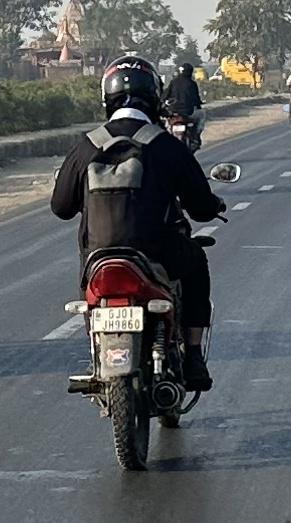BikeWithRider: (42, 48, 246, 479), (155, 57, 212, 162)
Helmet: (92, 50, 170, 129)
